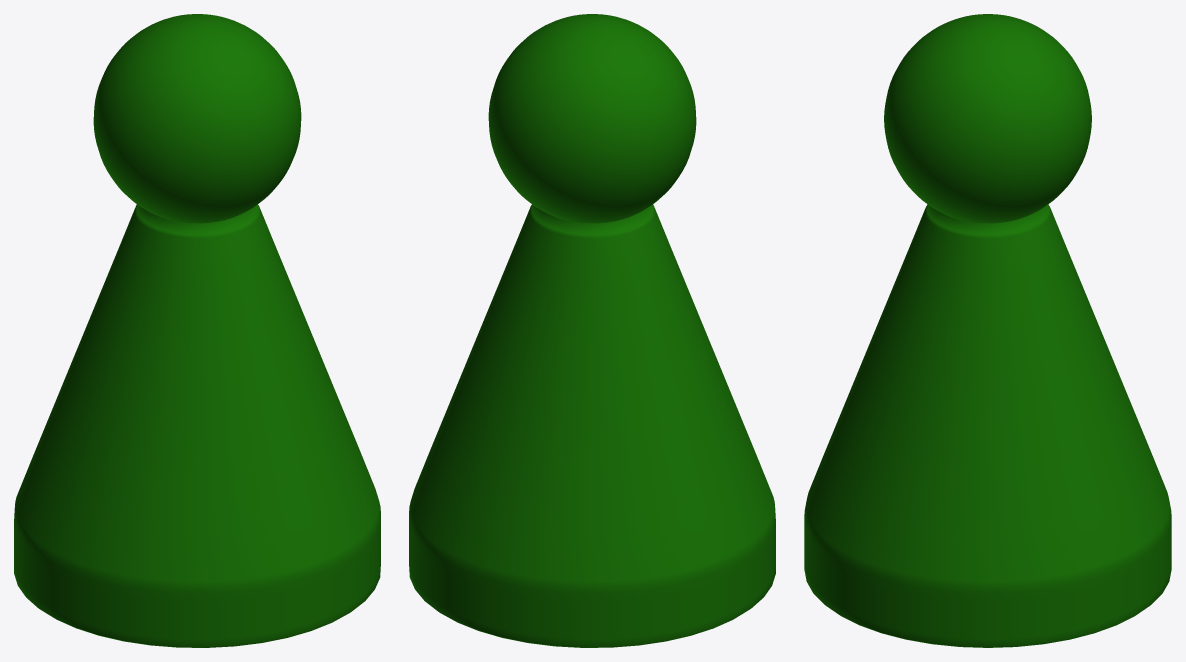
The model's file is Ludo_Piece.fbx.
3 views of the same model, side by side, from view 1: azimuth 30°, elevation 25°; view 2: azimuth 150°, elevation 25°; view 3: azimuth 270°, elevation 25° (orthographic).
Parts seen in each view (by area): view 1: playing_Piece; view 2: playing_Piece; view 3: playing_Piece.
Part boxes in pixels (left/top/right/bottom): playing_Piece: left=14, top=14, right=380, bottom=647; playing_Piece: left=409, top=14, right=775, bottom=647; playing_Piece: left=804, top=14, right=1171, bottom=647.
Size of the model in its own units: 1.89 by 3.1 by 1.89.
